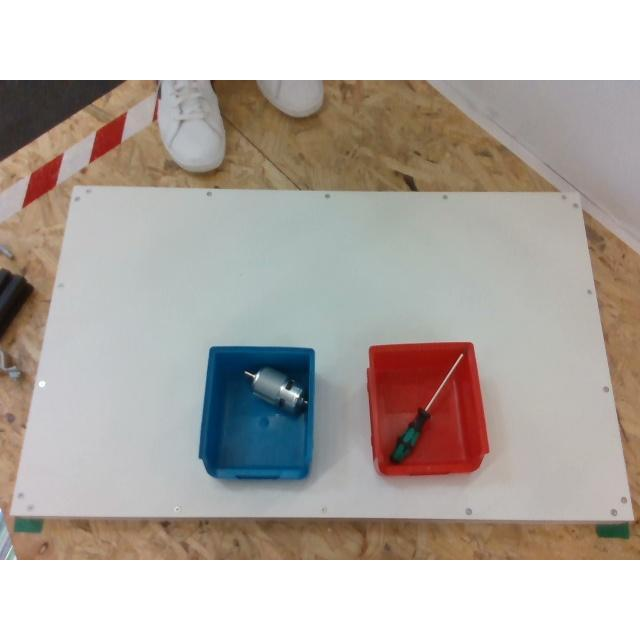Motor2: (244, 365, 308, 407)
S40_40_B: (0, 268, 32, 336)
Screwdriver: (389, 352, 465, 463)
container_box_blue: (198, 346, 314, 478)
container_box_red: (368, 342, 488, 472)
